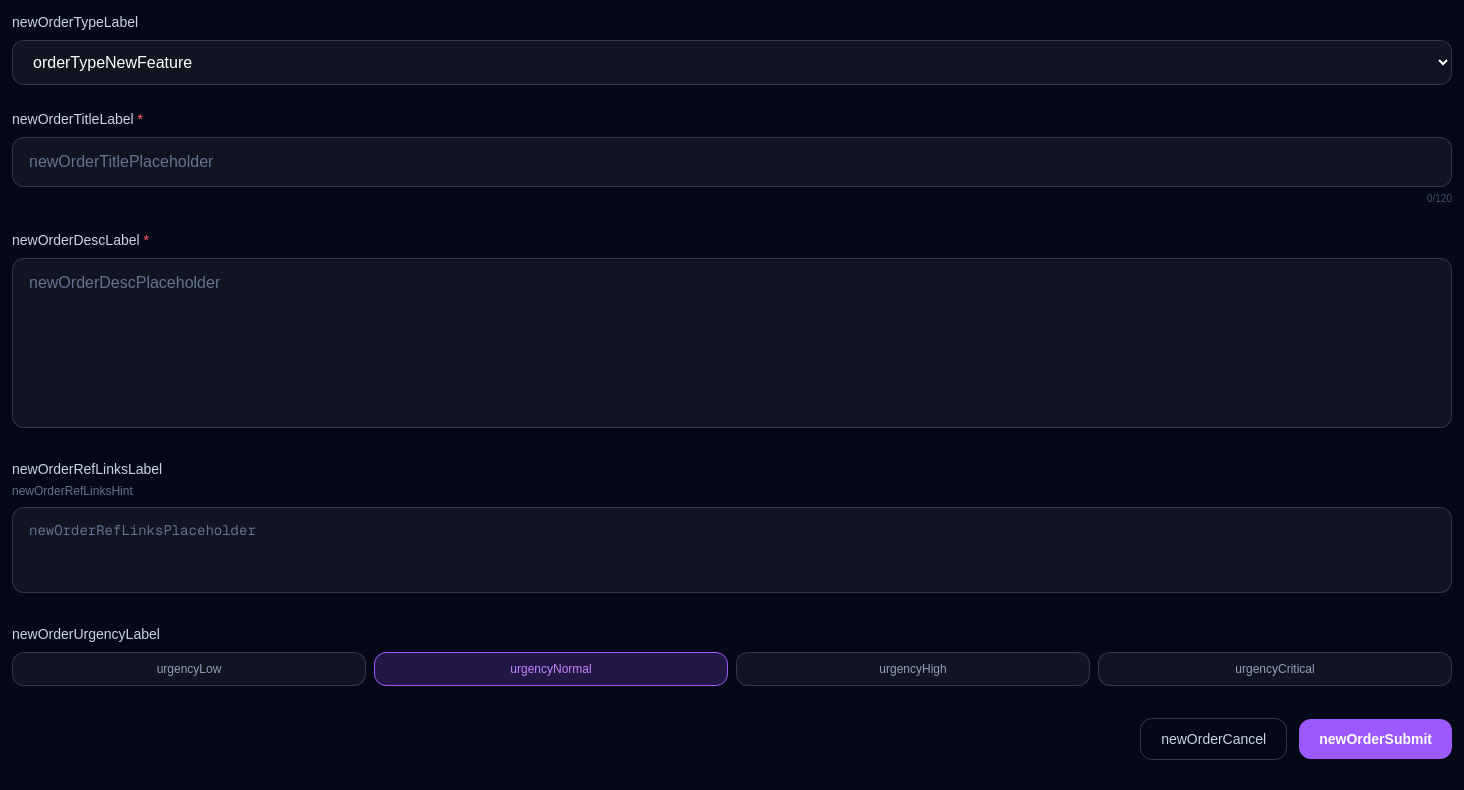
NewOrderForm › valida titulo obrigatorio antes de submeter
Type "Descricao valida" into the text box labelled "newOrderDescLabel *" at (732, 343), box [12,258,1452,428]
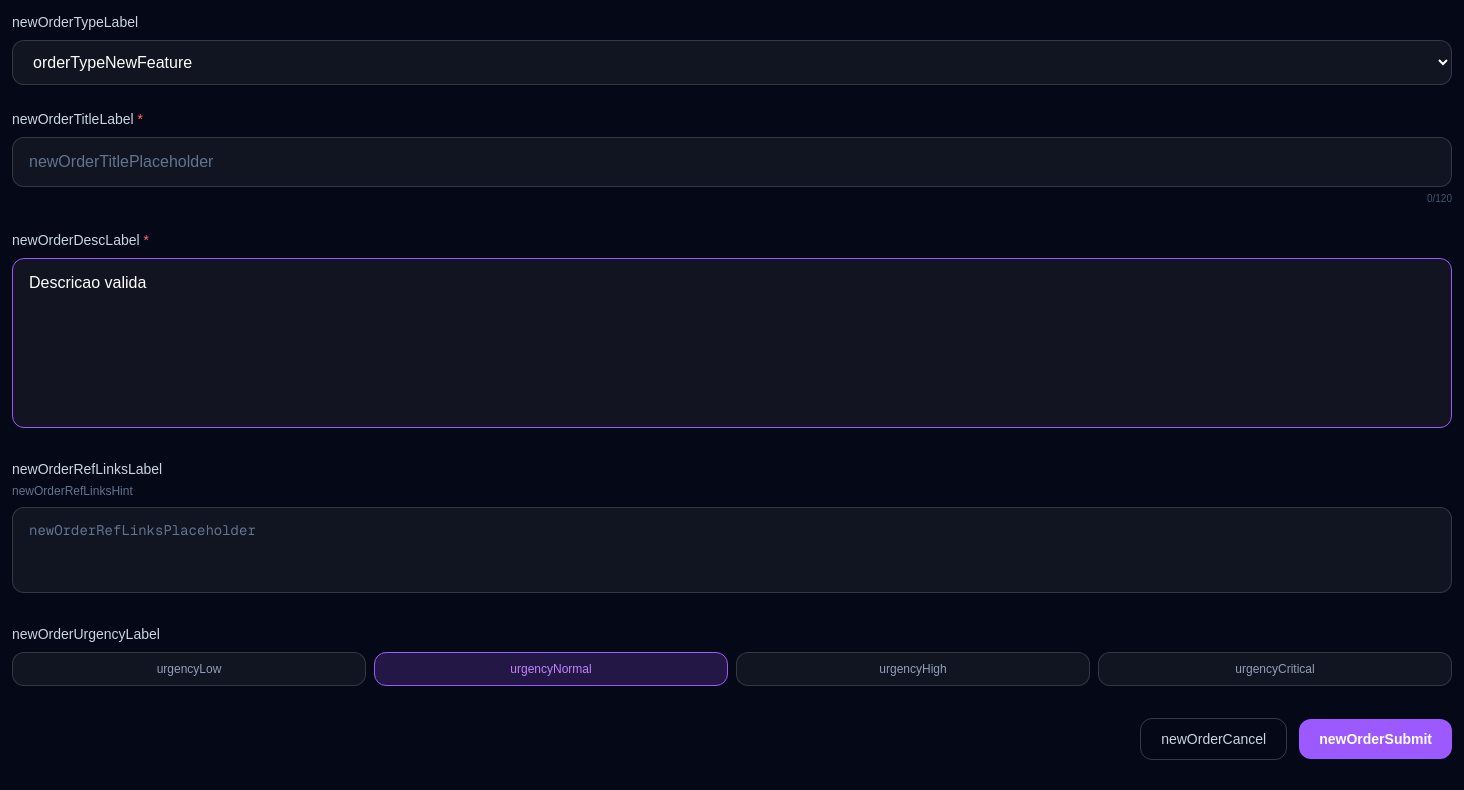
Click the button "newOrderSubmit" at (1376, 739), box [1299,719,1452,759]
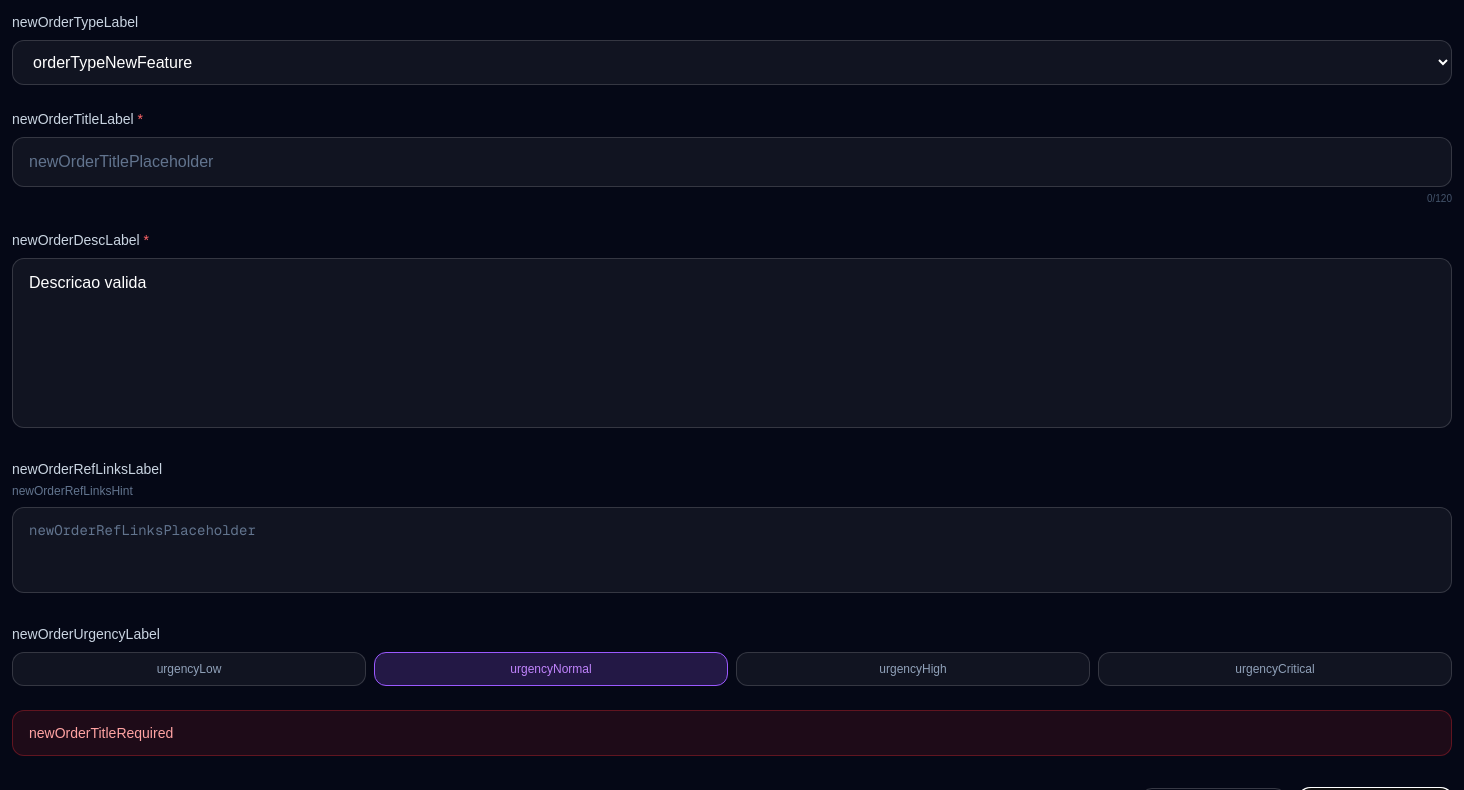
Result: the text "newOrderTitleRequired" is shown at [12,710,1452,756]
